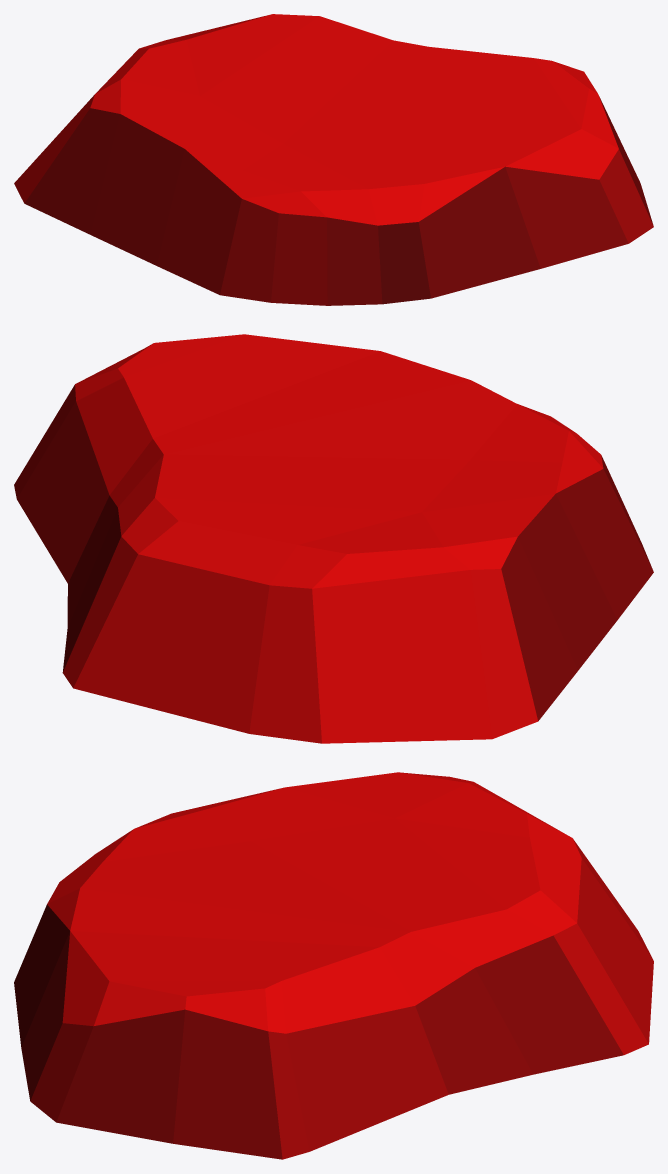
File: peb.glb
3 renders of one model, top to bottom at view 1: azimuth 30°, elevation 25°; view 2: azimuth 150°, elevation 25°; view 3: azimuth 270°, elevation 25°, orthographic. The views are drawn at different scales.
Visible parts, largest first — view 1: Pebble_Round_2; view 2: Pebble_Round_2; view 3: Pebble_Round_2.
Boxes of the visible parts, x1,y1,x2,y2 form: Pebble_Round_2: (14, 14, 653, 305); Pebble_Round_2: (14, 334, 653, 743); Pebble_Round_2: (14, 772, 653, 1159).
Size of the model in its own units: 0.4495 by 0.0942 by 0.4111.
